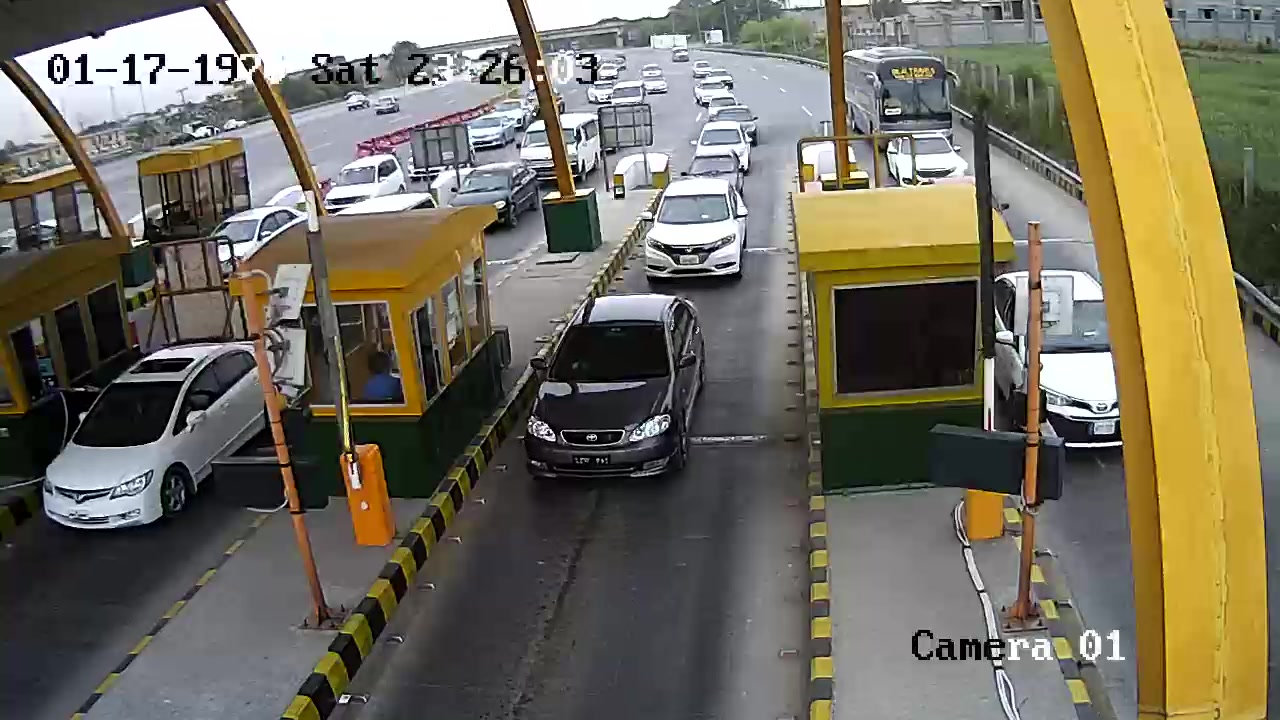F1: (525, 291, 717, 498)
